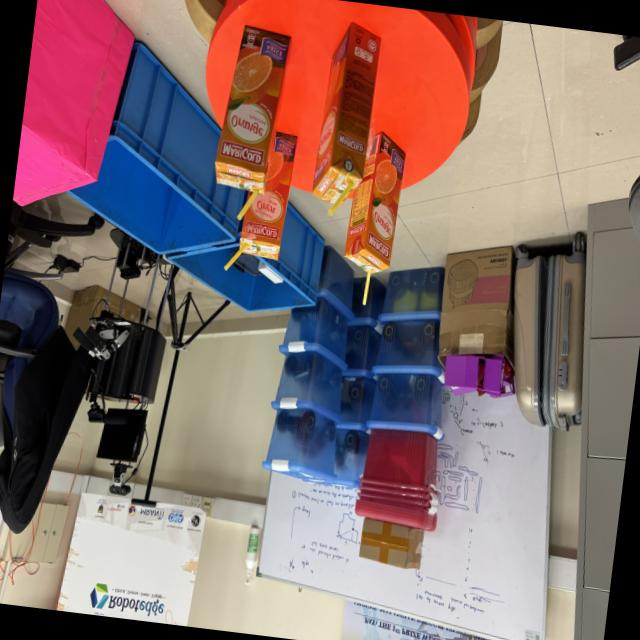drink_carton: (203, 8, 300, 232), (303, 14, 387, 223), (330, 122, 413, 316), (220, 115, 308, 284)
